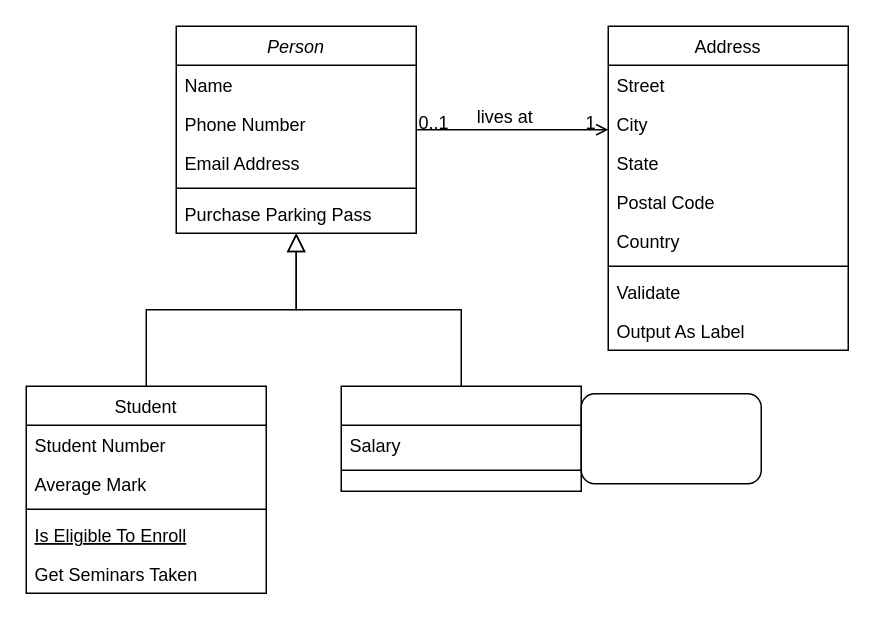
Some shapes in this 875 by 624 pixel diagram are drawn without their labels. Each missing label, with the box of its shape:
bbbbbbbb: (580, 392, 761, 484)
Professor: (340, 385, 581, 491)
